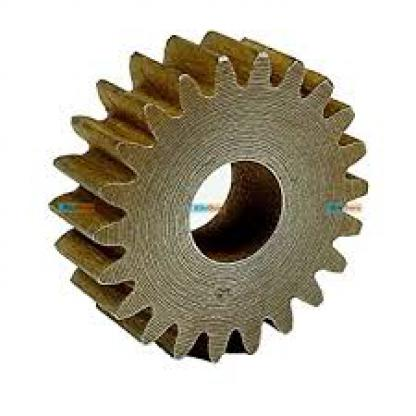FOD: (31, 20, 368, 381)
